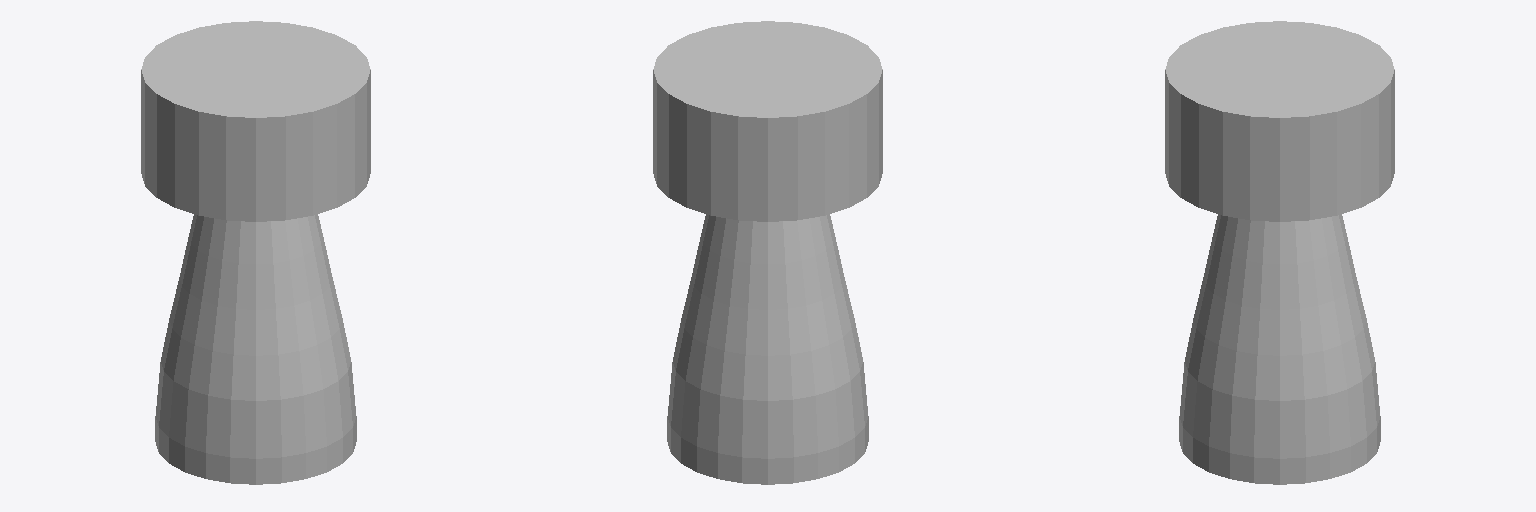
Rendered from satbusengine.obj.
3 views of the same model, side by side, from view 1: azimuth 30°, elevation 25°; view 2: azimuth 150°, elevation 25°; view 3: azimuth 270°, elevation 25° (orthographic).
Visible parts, largest first — view 1: SatBus_Cylinder.001; view 2: SatBus_Cylinder.001; view 3: SatBus_Cylinder.001.
Part boxes in pixels (x1,y1,x2,y2): SatBus_Cylinder.001: (141,21,370,484); SatBus_Cylinder.001: (653,21,882,484); SatBus_Cylinder.001: (1165,21,1394,484).
Size of the model in its own units: 0.1 by 0.1792 by 0.1.